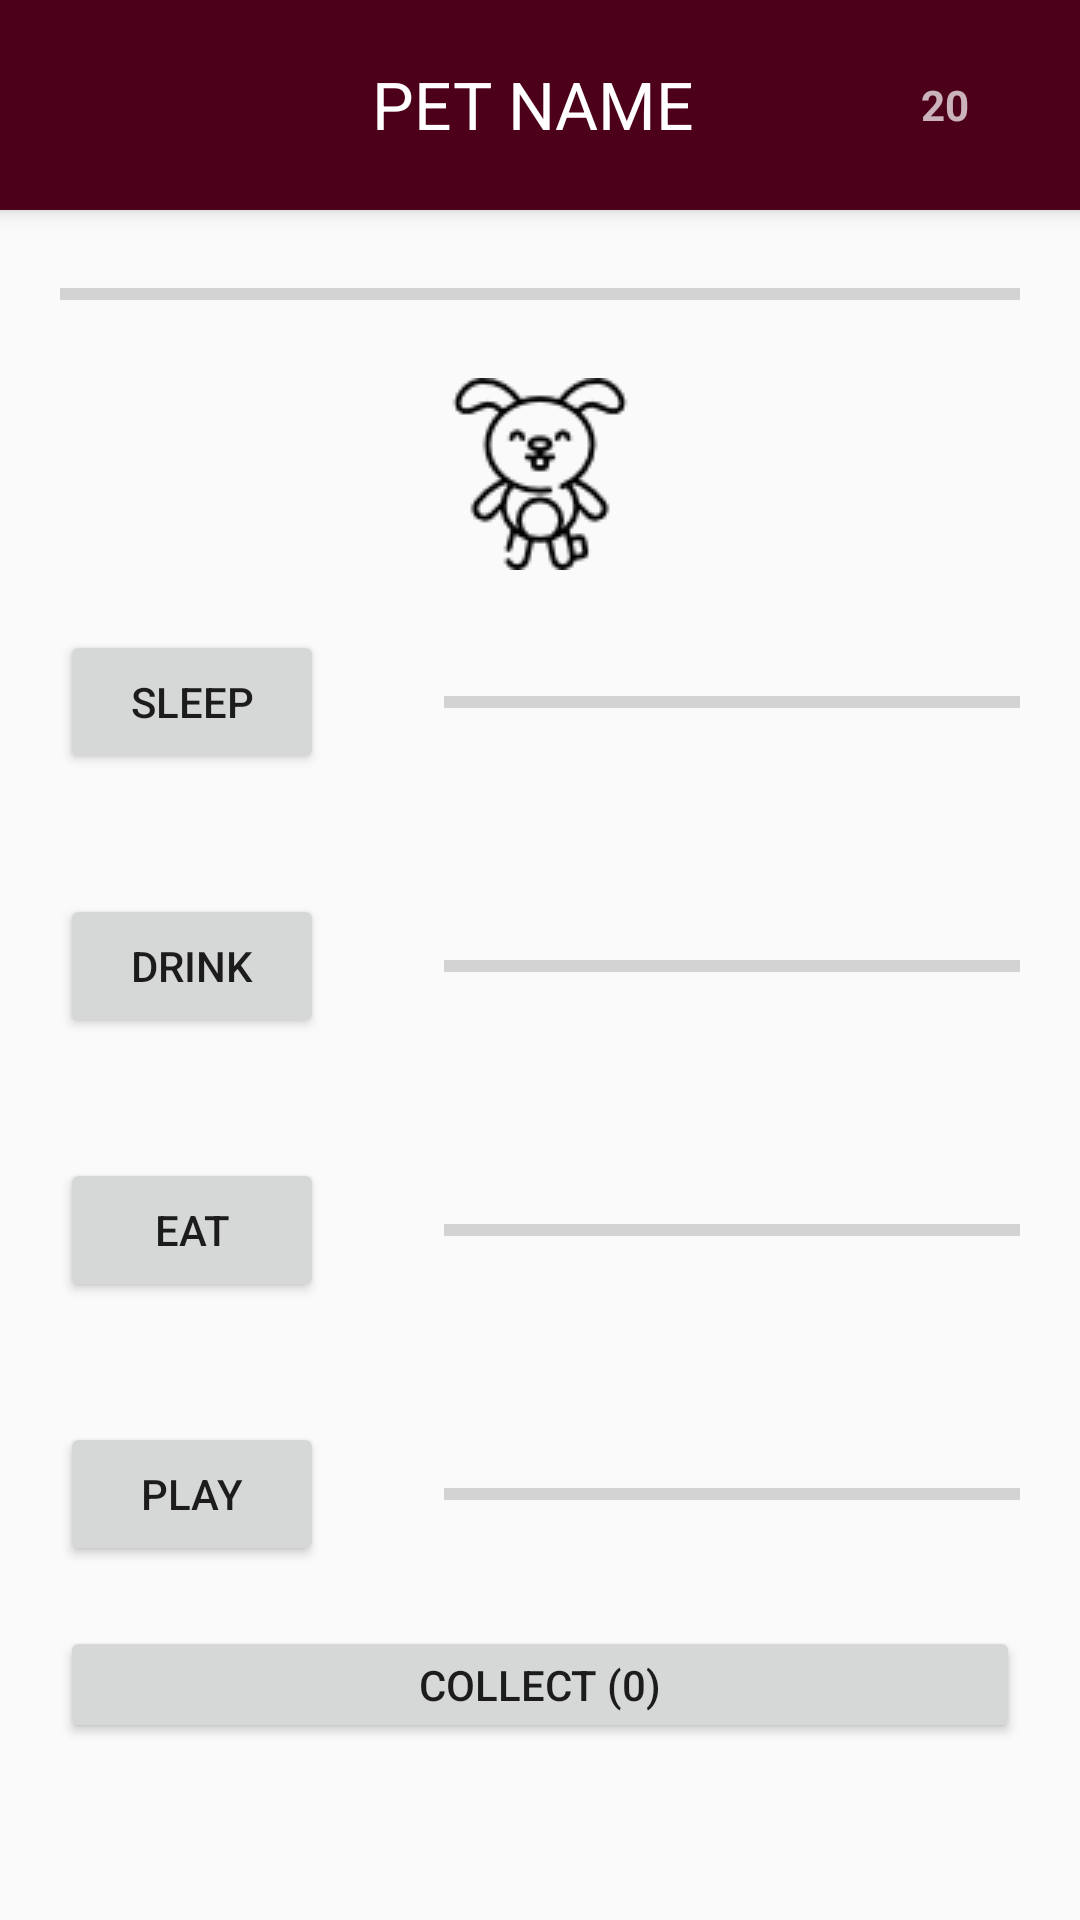

Icons on this 1080x1920 Android screen, each with the point to tap as point (x, y):
rabbit: point (540, 474)
